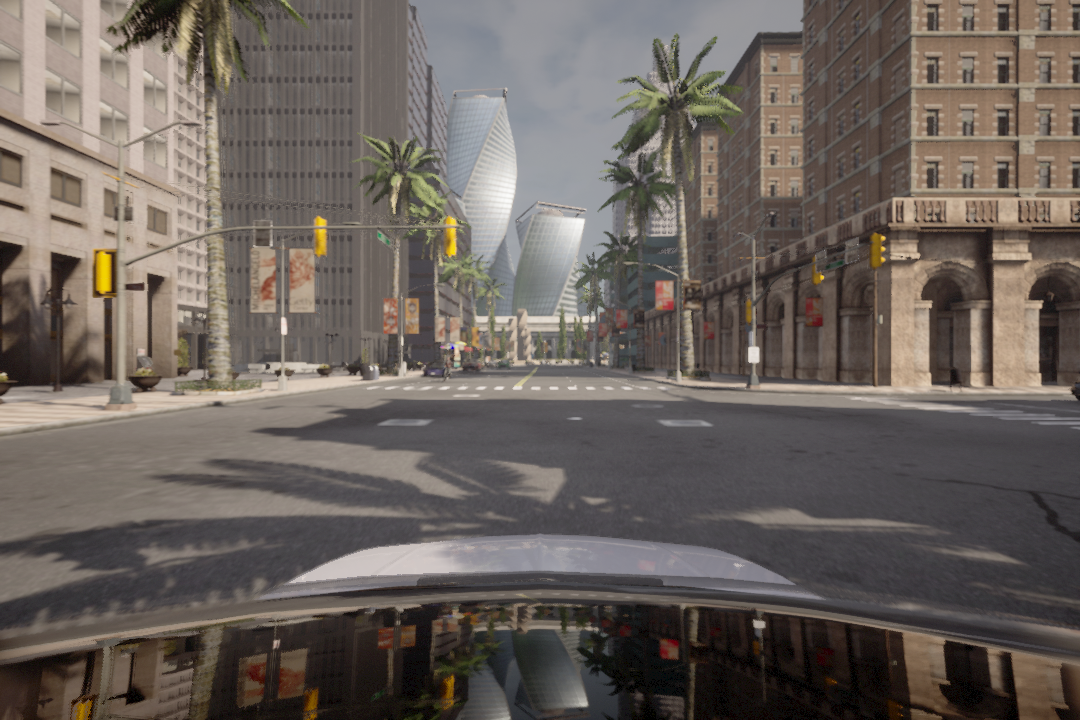walkside: (360, 382, 681, 394)
